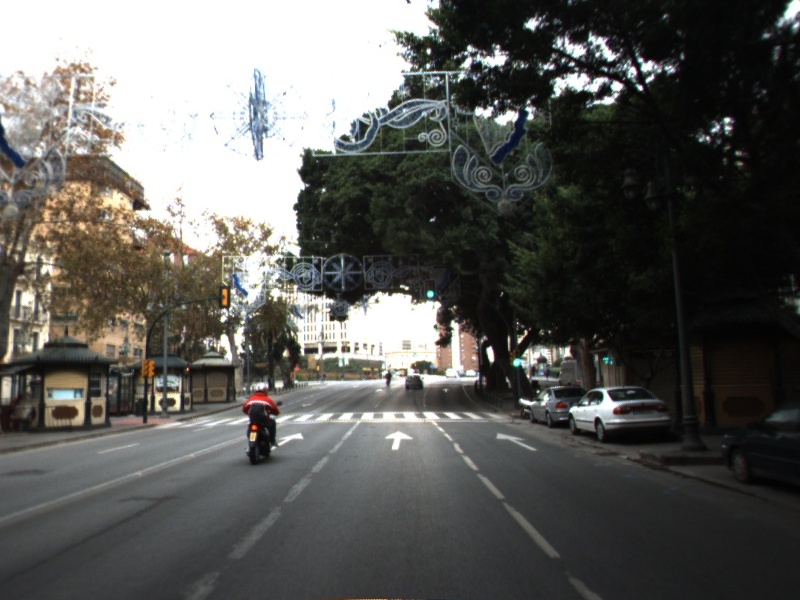STRAIGHT: (494, 431, 541, 453), (269, 431, 306, 452), (383, 429, 415, 452)
